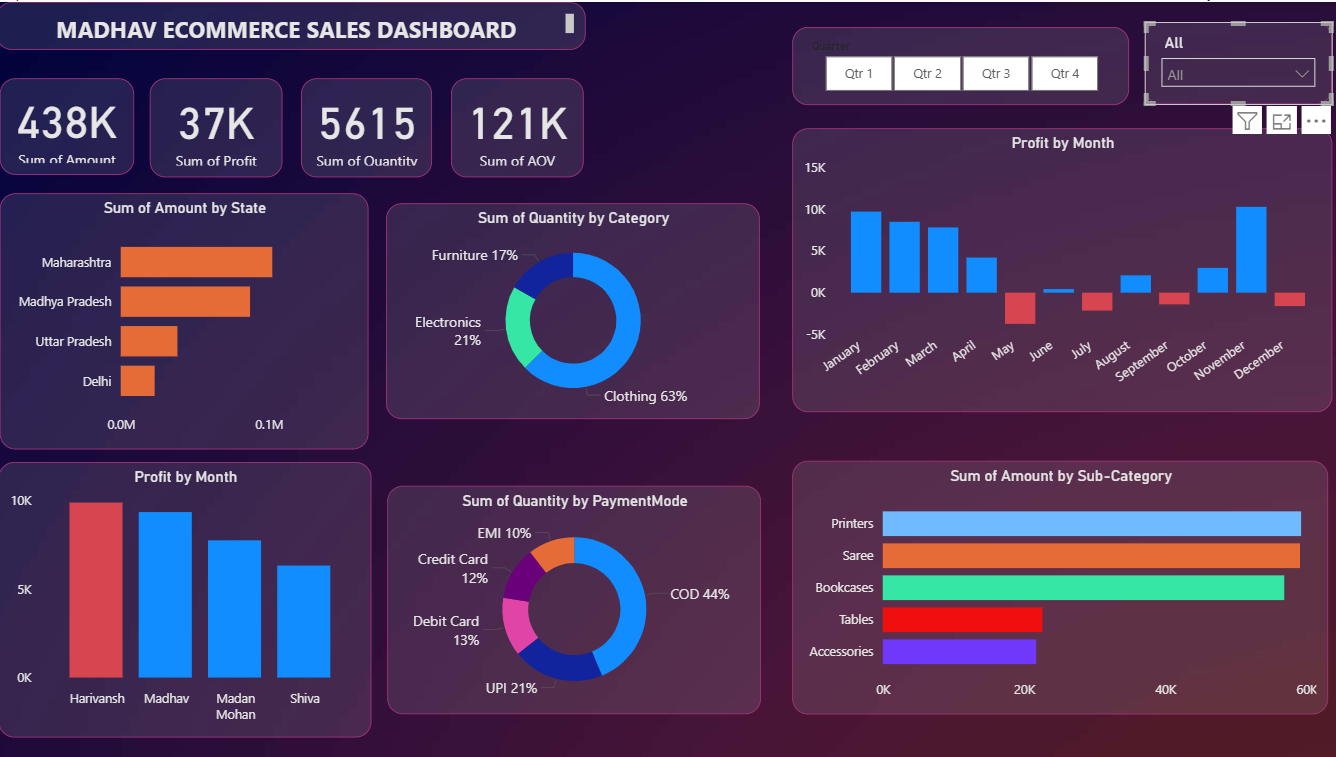

The page's visual inventory and layout, read from the dashboard file:
{"tool":"powerbi","page":{"name":"Page 1","canvas":[1280,720],"ordinal":0},"visuals":[{"type":"textbox","box":[0,0,561.2,45.3],"z":0},{"type":"columnChart","title":" Profit by Month","fields":{"Category":["Orders.Order Date.Variation.Date Hierarchy.Month"],"Y":["Details.Profit"]},"box":[758.3,120.2,514.3,270.2],"z":1000},{"type":"barChart","fields":{"Category":["Details.Sub-Category"],"Y":["Details.Amount"]},"box":[758.8,436.4,510.5,241.5],"z":2000},{"type":"donutChart","fields":{"Category":["Details.Category"],"Y":["Details.Quantity"]},"box":[371.4,191.7,356,206],"z":3000},{"type":"donutChart","fields":{"Y":["Details.Quantity"],"Category":["Details.PaymentMode"]},"box":[372.6,460.7,356,217.9],"z":4000},{"type":"card","fields":{"Values":["Details.Amount"]},"box":[4.1,72.7,127.6,91.9],"z":5000},{"type":"card","fields":{"Values":["Details.Profit"]},"box":[146.8,72.7,126.2,94.7],"z":6000},{"type":"card","fields":{"Values":["Details.Quantity"]},"box":[290.9,72.7,124.9,94.7],"z":7000},{"type":"card","fields":{"Values":["Details.AOV"]},"box":[433.6,72.7,126.2,94.7],"z":8000},{"type":"barChart","fields":{"Y":["Details.Amount"],"Category":["Orders.State"]},"box":[4.1,182.5,351.3,244.3],"z":9000},{"type":"columnChart","title":" Profit by Month","fields":{"Category":["Orders.CustomerName"],"Y":["Details.Amount"]},"box":[2.7,437.7,355.4,262.1],"z":10000},{"type":"slicer","fields":{"Values":["Orders.State"]},"box":[1093.7,19.2,178.4,78.2],"z":11000},{"type":"slicer","fields":{"Values":["Orders.Order Date.Variation.Date Hierarchy.Quarter"]},"box":[758.8,23.3,321.1,74.1],"z":12000}]}

Visuals, with their boxes in screenshot pixels (x1, y1, x2, y2), scaled from the page's 1280x720 canvas onto the 1336x757 screenshot:
textbox: BBox(0, 0, 586, 48)
" Profit by Month" columnChart: BBox(791, 126, 1328, 410)
barChart - Details.Sub-Category x Details.Amount: BBox(792, 459, 1325, 713)
donutChart - Details.Category x Details.Quantity: BBox(388, 202, 759, 418)
donutChart - Details.Quantity x Details.PaymentMode: BBox(389, 484, 760, 713)
card - Details.Amount: BBox(4, 76, 137, 173)
card - Details.Profit: BBox(153, 76, 285, 176)
card - Details.Quantity: BBox(304, 76, 434, 176)
card - Details.AOV: BBox(453, 76, 584, 176)
barChart - Details.Amount x Orders.State: BBox(4, 192, 371, 449)
" Profit by Month" columnChart: BBox(3, 460, 374, 736)
slicer - Orders.State: BBox(1142, 20, 1328, 102)
slicer - Orders.Order Date.Variation.Date Hierarchy.Quarter: BBox(792, 24, 1127, 102)
